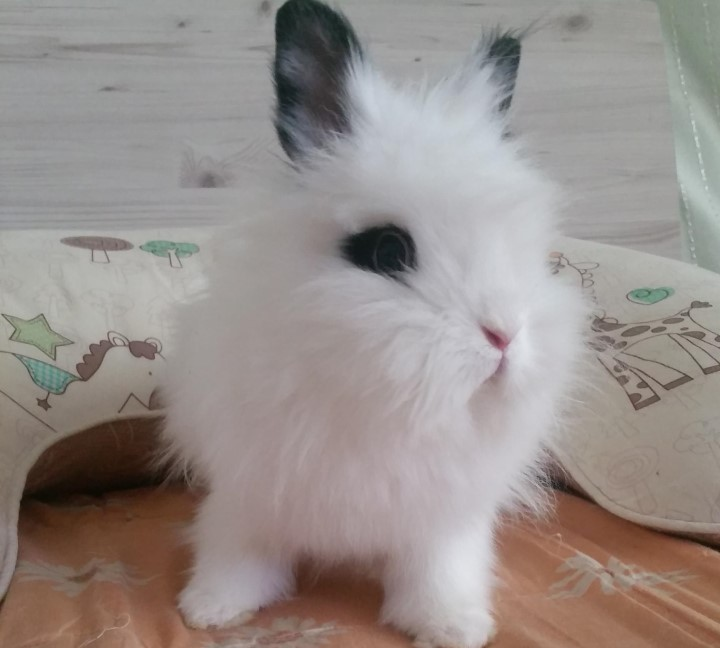bunny: (142, 4, 605, 648)
